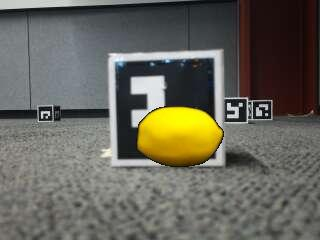lemon: (138, 107, 223, 166)
